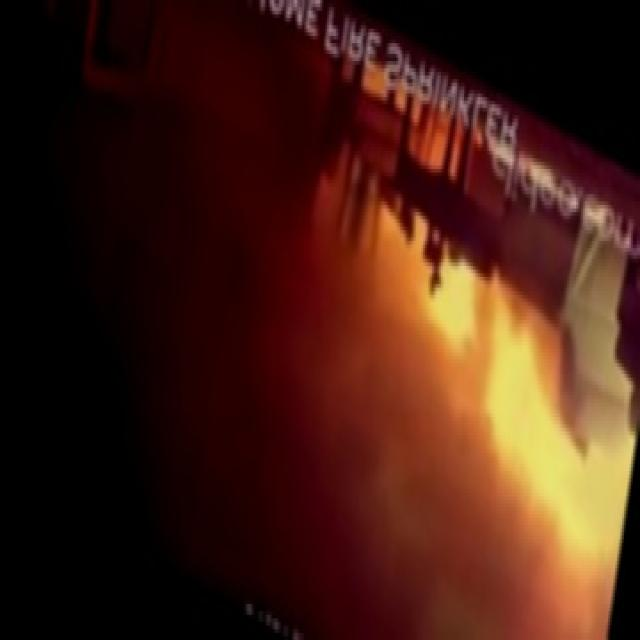fire: (293, 151, 640, 640)
